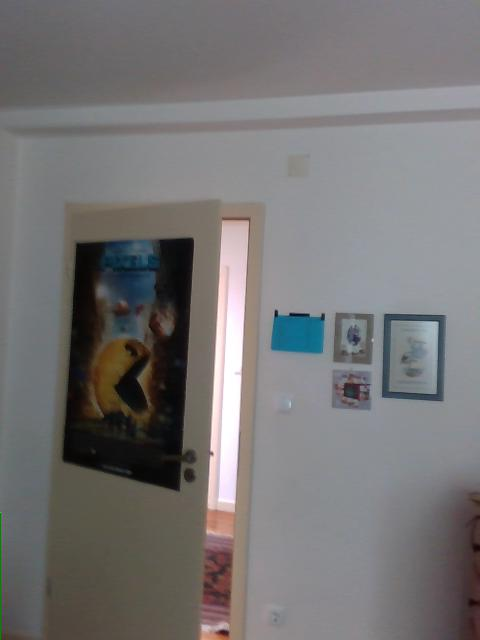semi_door: (42, 194, 266, 639)
